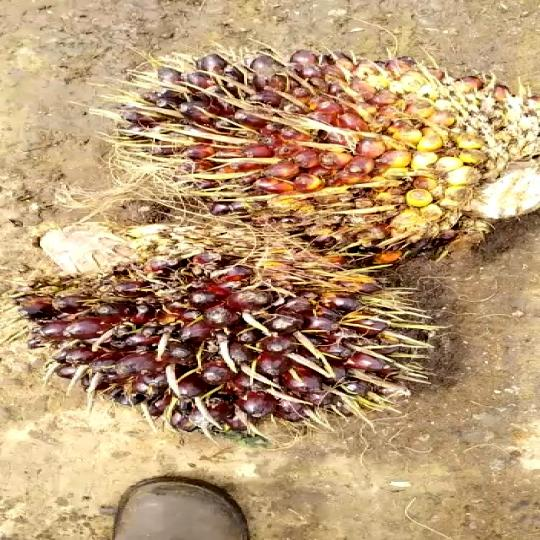kurang masak: (0, 208, 460, 443), (102, 39, 540, 254)
